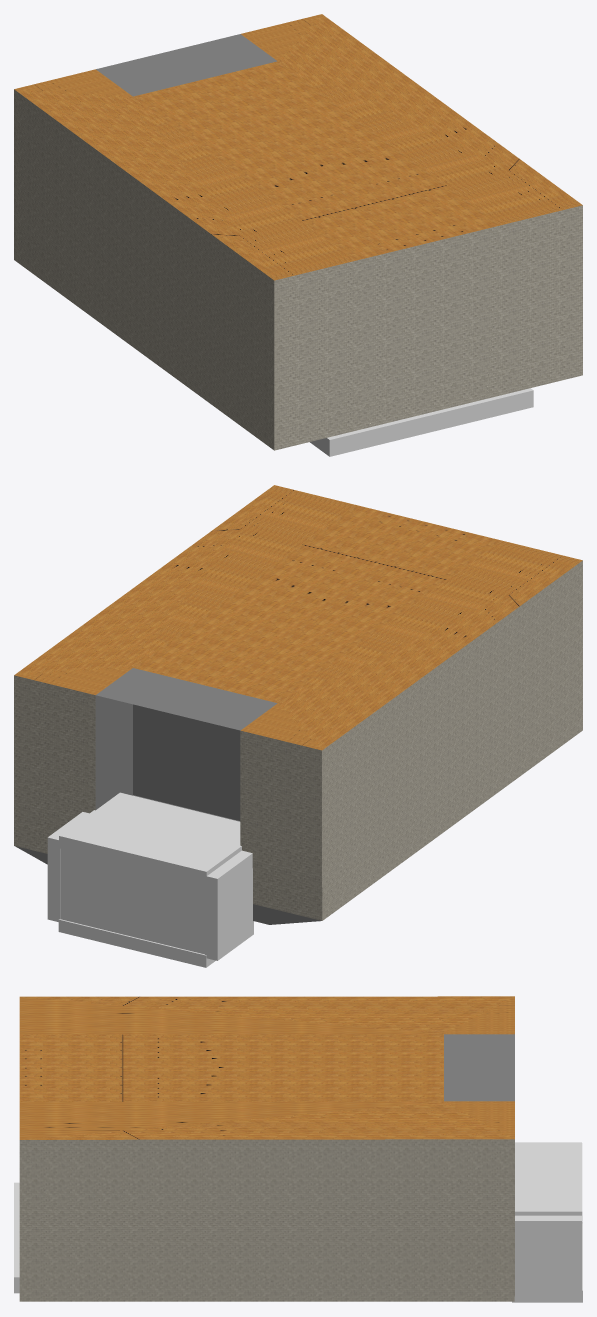
The model's file is bowling.dae.
3 views of the same model, one above another, from view 1: azimuth 30°, elevation 25°; view 2: azimuth 150°, elevation 25°; view 3: azimuth 270°, elevation 25° (orthographic). The views are drawn at different scales.
Visible parts, largest first — view 1: LaneModel, Lane_015; view 2: LaneModel, Lane_012, Lane_007, Lane_008, Lane_011, Lane_010; view 3: LaneModel, Lane_010, Lane_012, Lane_015.
Part boxes in pixels (box(x1,y1,x2,y2)): LaneModel: box(14, 14, 582, 450); Lane_015: box(310, 388, 533, 456); LaneModel: box(14, 485, 582, 924); Lane_012: box(59, 792, 241, 883); Lane_007: box(60, 849, 204, 954); Lane_008: box(205, 850, 253, 960); Lane_011: box(58, 919, 215, 967); Lane_010: box(47, 812, 89, 921); LaneModel: box(19, 996, 514, 1301); Lane_010: box(514, 1215, 581, 1298); Lane_012: box(515, 1143, 582, 1222); Lane_015: box(14, 1182, 19, 1293).
Size of the model in its own units: 19.14 by 32.15 by 12.5.
